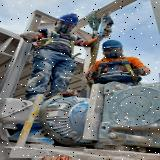Helmet: (56, 12, 79, 26), (101, 40, 124, 49)
